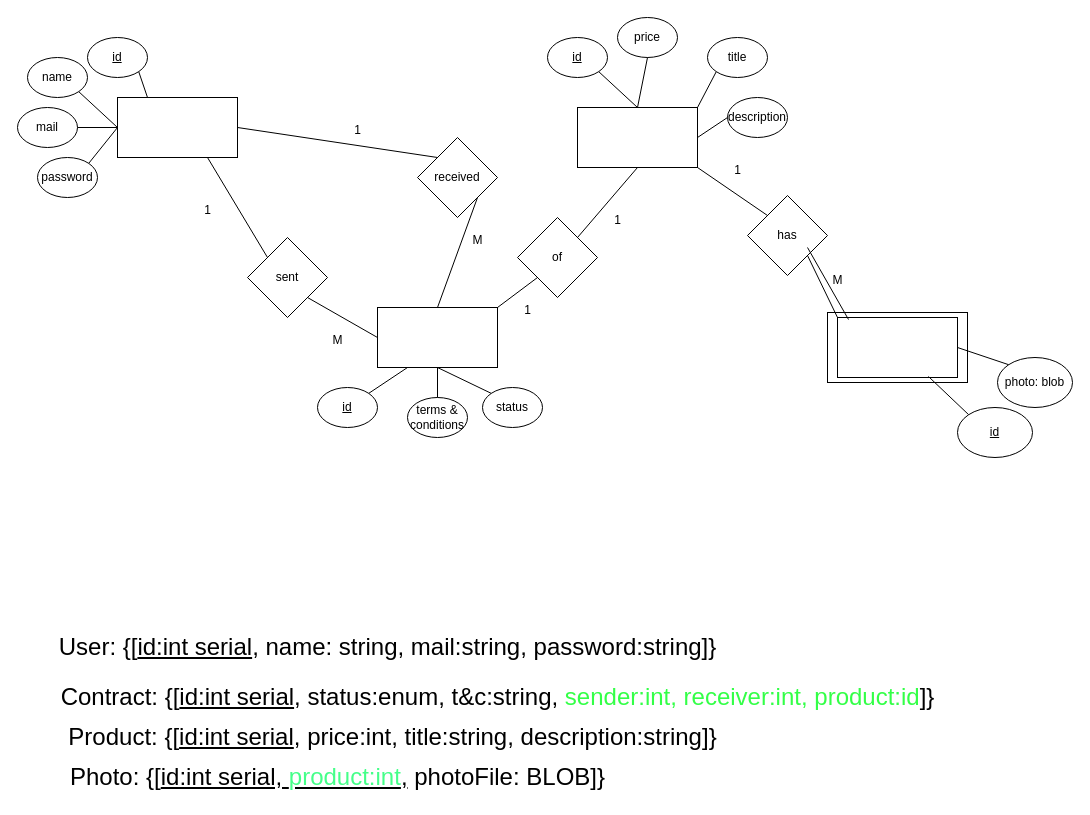
Some shapes in this 1090 by 815 pixel diagram are drawn without their labels. The shapes that lost their labels are listed below. From the top down, each one's centre as x and y in pixels, then its label:
At point 177,127: "User".
At point 637,137: "Product".
At point 437,337: "Contract".
At point 897,347: "Photo".
